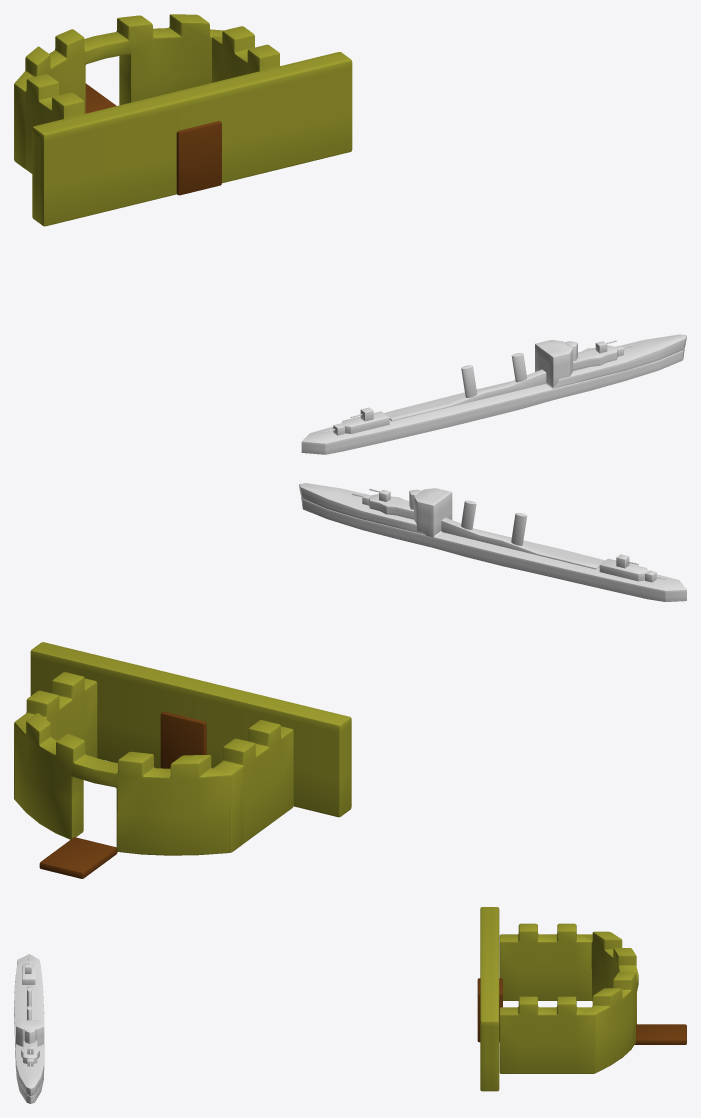
File: kale ve gemi.fbx
3 views of the same model, one above another, from view 1: azimuth 30°, elevation 25°; view 2: azimuth 150°, elevation 25°; view 3: azimuth 270°, elevation 25° (orthographic). The views are drawn at different scales.
Parts seen in each view (by area): view 1: canon, kale1; view 2: canon, kale1; view 3: canon, kale1.
Part boxes in pixels (left/top/right/bottom): canon: left=14, top=14, right=352, bottom=226; kale1: left=301, top=334, right=686, bottom=454; canon: left=14, top=642, right=351, bottom=878; kale1: left=299, top=483, right=686, bottom=601; canon: left=477, top=907, right=686, bottom=1091; kale1: left=14, top=954, right=44, bottom=1103.
Size of the model in its own units: 58.27 by 13.87 by 115.
